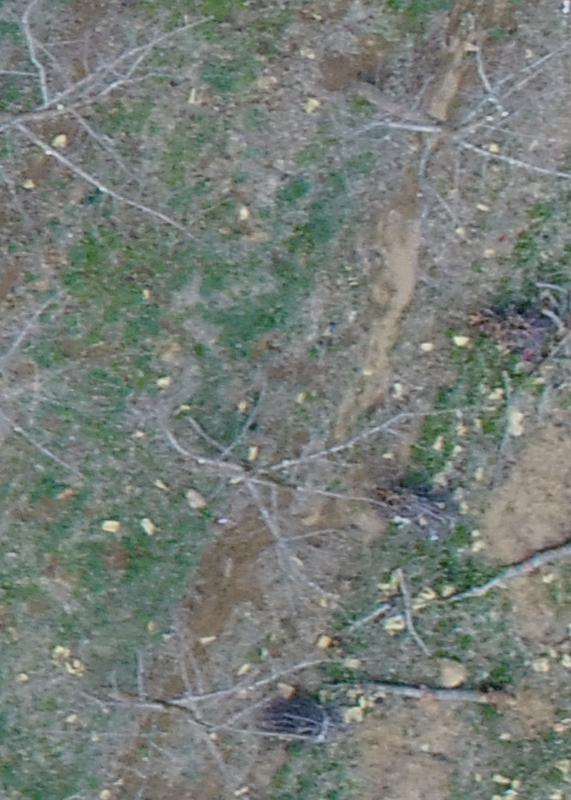apple: (120, 358, 488, 619), (10, 10, 257, 257), (63, 622, 360, 790)
